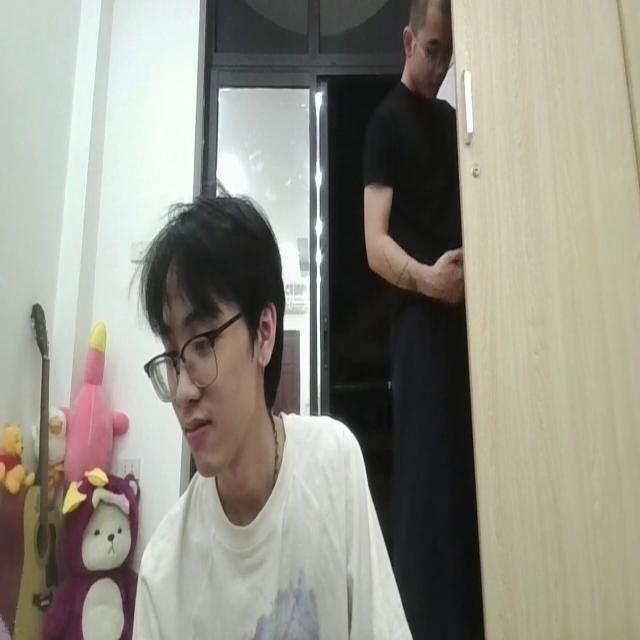extra_person: (359, 0, 478, 640)
student: (125, 197, 412, 640)
